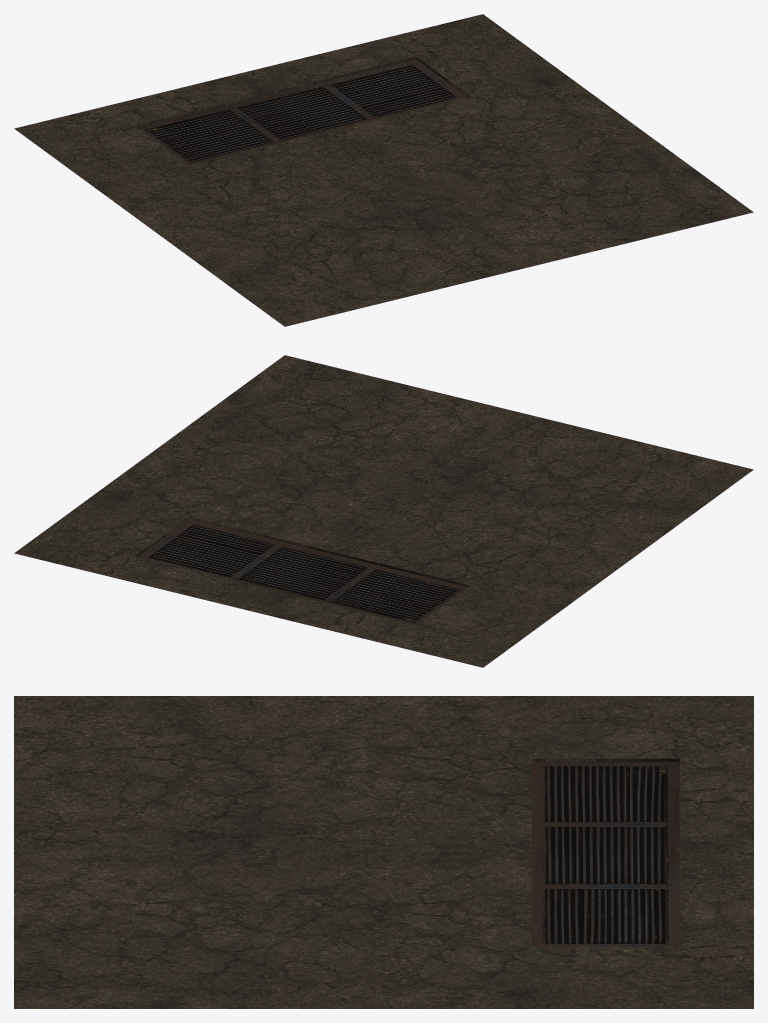
File: asphalt_hr_2.obj
3 views of the same model, one above another, from view 1: azimuth 30°, elevation 25°; view 2: azimuth 150°, elevation 25°; view 3: azimuth 270°, elevation 25° (orthographic). The views are drawn at different scales.
Visible parts, largest first — view 1: asphalt_hr_2; view 2: asphalt_hr_2; view 3: asphalt_hr_2.
Boxes of the visible parts, x1,y1,x2,y2 form: asphalt_hr_2: (14,14,753,326); asphalt_hr_2: (14,355,753,667); asphalt_hr_2: (14,696,753,1008).
Size of the model in its own units: 4 by 0.02 by 4.
